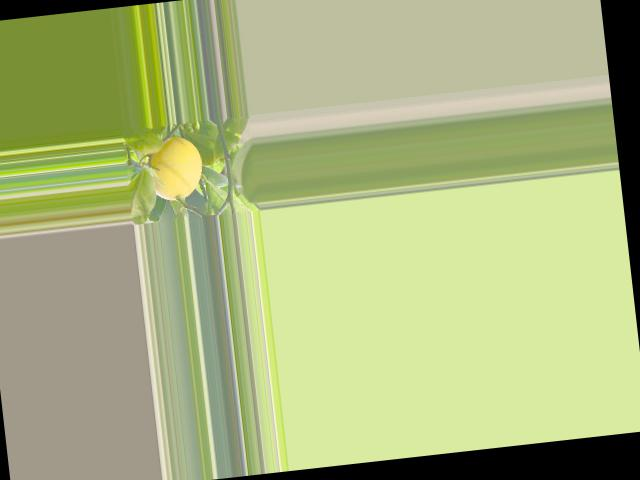lemon: (138, 135, 210, 208)
